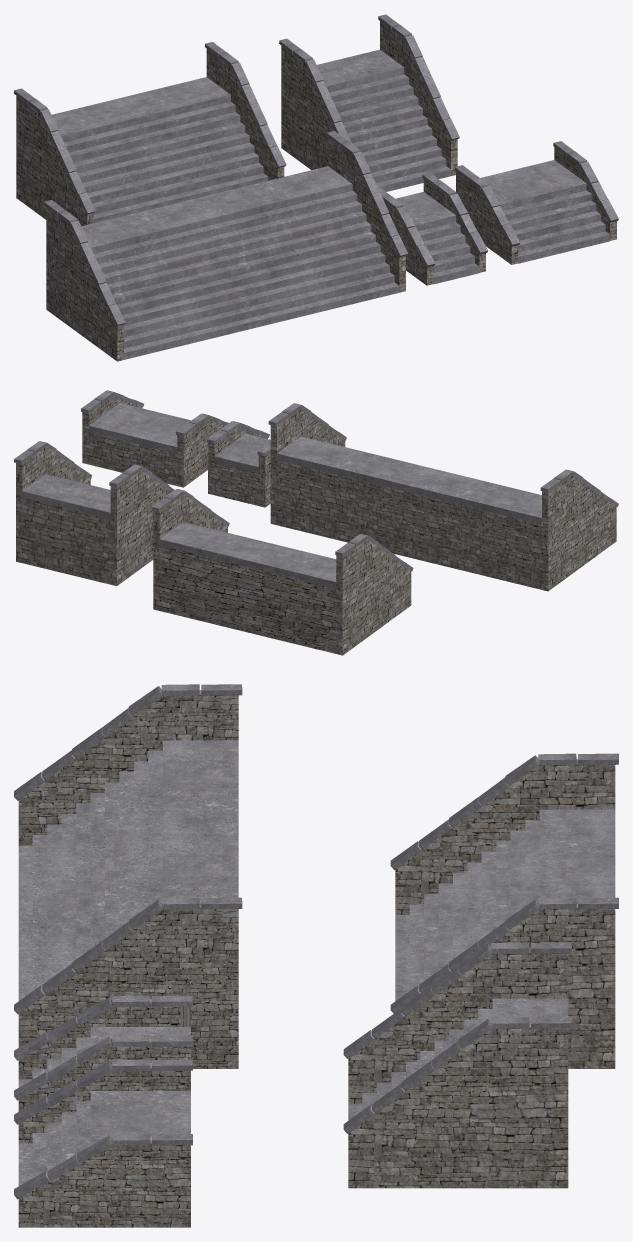
File: medieval_stone_stairs.fbx
The picture shows the model from 3 angles, top to bottom: view 1: azimuth 30°, elevation 25°; view 2: azimuth 150°, elevation 25°; view 3: azimuth 270°, elevation 25°; orthographic projection. The views are drawn at different scales.
Parts seen in each view (by area): view 1: StairsStoneWideTall6_4, StairsStoneWideTall4_3, StairsStoneWideTall_2, StairsStoneWide_1, StairsStone_0; view 2: StairsStoneWideTall6_4, StairsStoneWideTall4_3, StairsStoneWideTall_2, StairsStoneWide_1, StairsStone_0; view 3: StairsStoneWideTall6_4, StairsStoneWideTall_2, StairsStoneWideTall4_3, StairsStoneWide_1, StairsStone_0.
Part boxes in pixels (x1=…): StairsStoneWideTall6_4: x1=44, y1=131, x2=407, y2=361; StairsStoneWideTall4_3: x1=14, y1=42, x2=286, y2=226; StairsStoneWideTall_2: x1=279, y1=14, x2=459, y2=191; StairsStoneWide_1: x1=454, y1=141, x2=618, y2=264; StairsStone_0: x1=377, y1=173, x2=488, y2=285; StairsStoneWideTall6_4: x1=268, y1=403, x2=618, y2=591; StairsStoneWideTall4_3: x1=151, y1=489, x2=413, y2=655; StairsStoneWideTall_2: x1=14, y1=441, x2=174, y2=586; StairsStoneWide_1: x1=81, y1=390, x2=228, y2=487; StairsStone_0: x1=207, y1=421, x2=270, y2=507; StairsStoneWideTall6_4: x1=14, y1=684, x2=242, y2=1068; StairsStoneWideTall_2: x1=343, y1=942, x2=571, y2=1188; StairsStoneWideTall4_3: x1=390, y1=753, x2=618, y2=1068; StairsStoneWide_1: x1=14, y1=1059, x2=192, y2=1227; StairsStone_0: x1=14, y1=995, x2=192, y2=1111.
Size of the model in its own units: 1903 by 389 by 1285.
